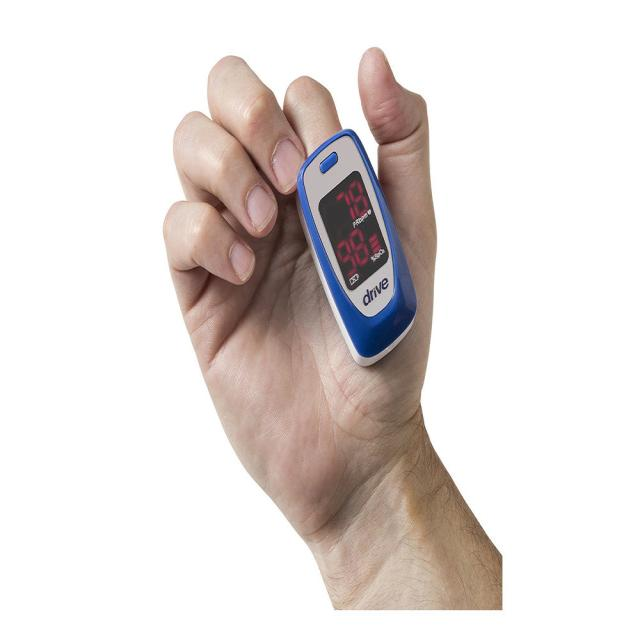oximeter: (283, 120, 430, 381)
